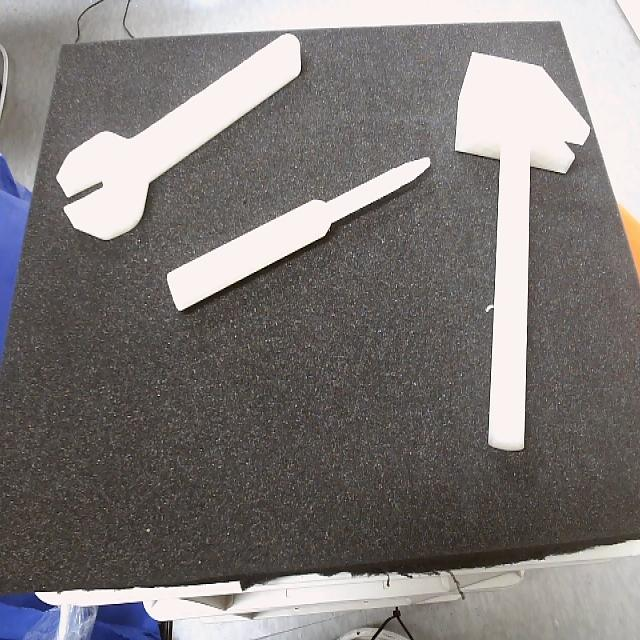Driver: (167, 157, 431, 313)
Hammer: (455, 53, 590, 455)
Spanner: (55, 35, 302, 241)
